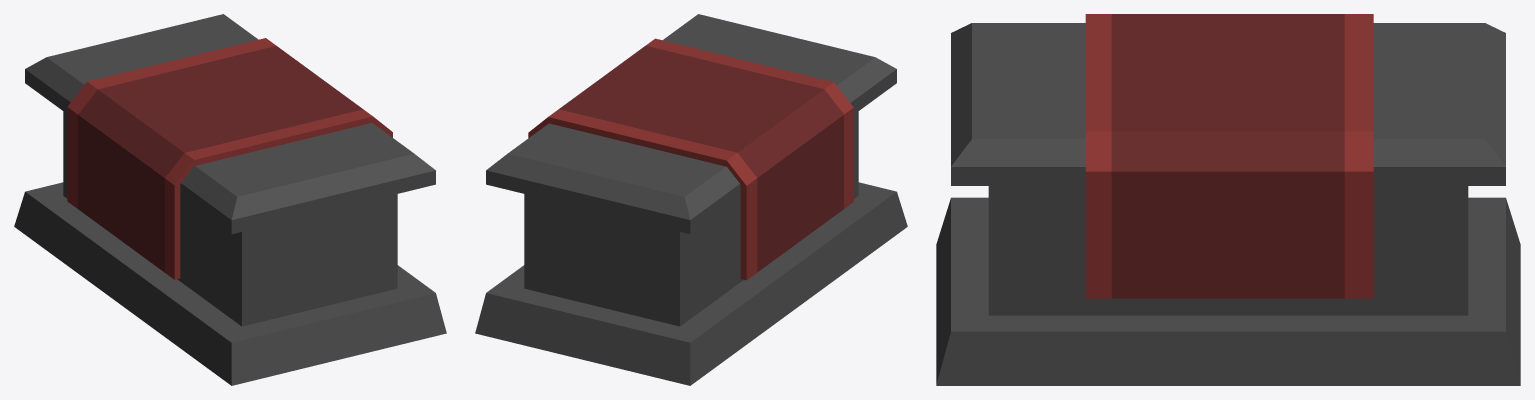
The model's file is envi_altar.fbx.
The picture shows the model from 3 angles, left to right: view 1: azimuth 30°, elevation 25°; view 2: azimuth 150°, elevation 25°; view 3: azimuth 270°, elevation 25°; orthographic projection. The views are drawn at different scales.
Visible parts, largest first — view 1: pCube158, pCube159; view 2: pCube158, pCube159; view 3: pCube158, pCube159.
Boxes of the visible parts, x1=… form: pCube158: x1=14, y1=14, x2=446, y2=385; pCube159: x1=67, y1=38, x2=392, y2=279; pCube158: x1=475, y1=14, x2=907, y2=385; pCube159: x1=528, y1=38, x2=853, y2=280; pCube158: x1=936, y1=23, x2=1520, y2=385; pCube159: x1=1085, y1=14, x2=1373, y2=298.
Size of the model in its own units: 2.7 by 2.13 by 4.66.
